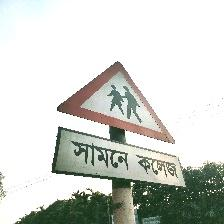College-in-front: (52, 53, 206, 210)
